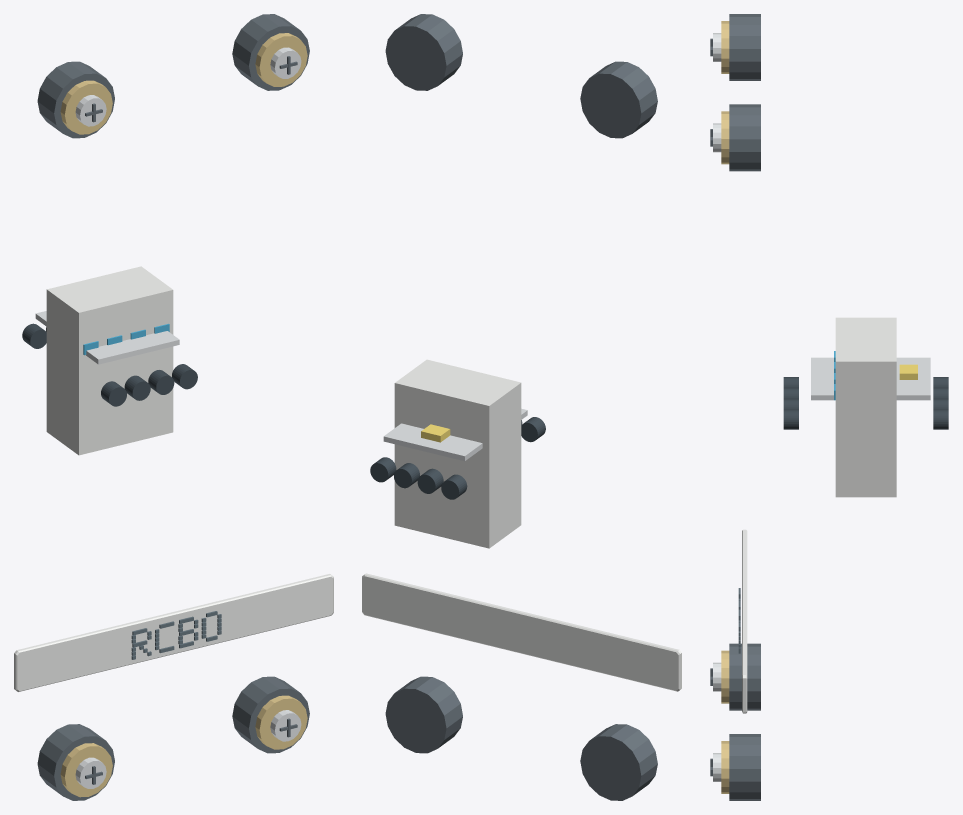
The model's file is differentialBreaker.glb.
3 renders of one model, left to right at view 1: azimuth 30°, elevation 25°; view 2: azimuth 150°, elevation 25°; view 3: azimuth 270°, elevation 25°, orthographic. The views are drawn at different scales.
Visible parts, largest first — view 1: differentialBreaker-preview; view 2: differentialBreaker-preview; view 3: differentialBreaker-preview.
Part boxes in pixels (left/top/right/bottom): differentialBreaker-preview: left=14, top=14, right=333, bottom=800; differentialBreaker-preview: left=362, top=14, right=681, bottom=800; differentialBreaker-preview: left=710, top=14, right=948, bottom=800.
Size of the model in its own units: 1.63 by 3.56 by 1.11.
